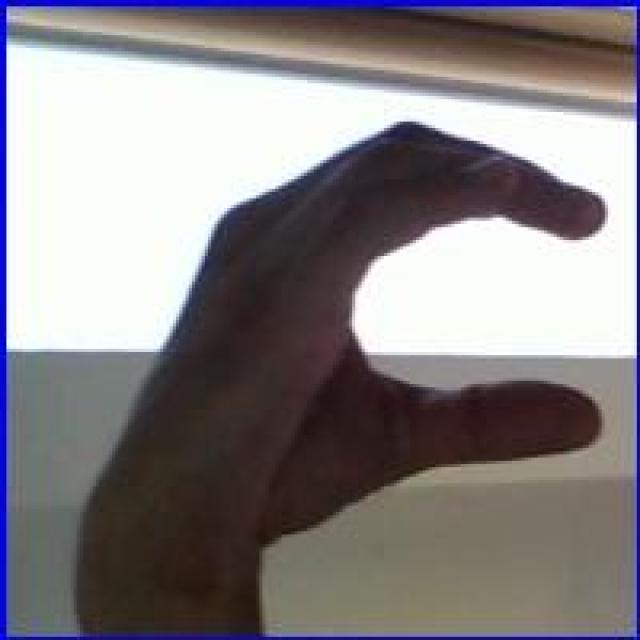C: (104, 114, 613, 587)
